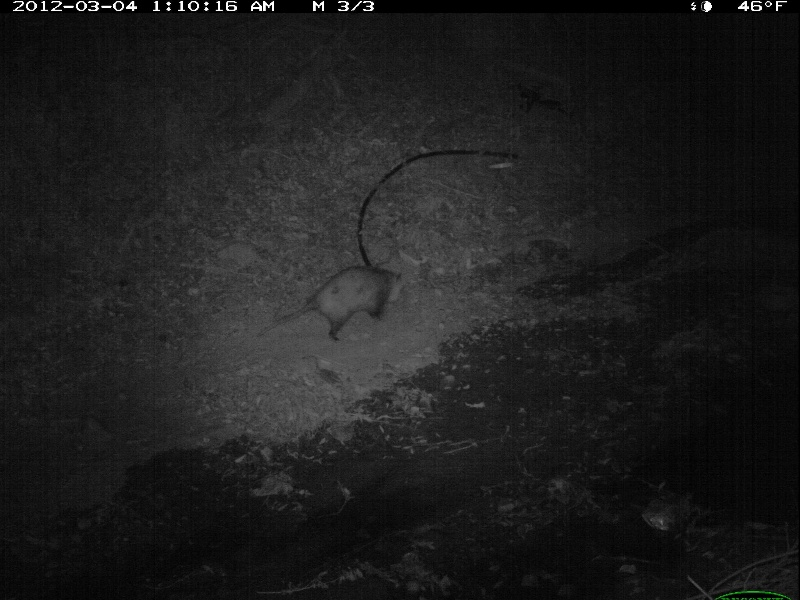opossum: (255, 264, 408, 339)
